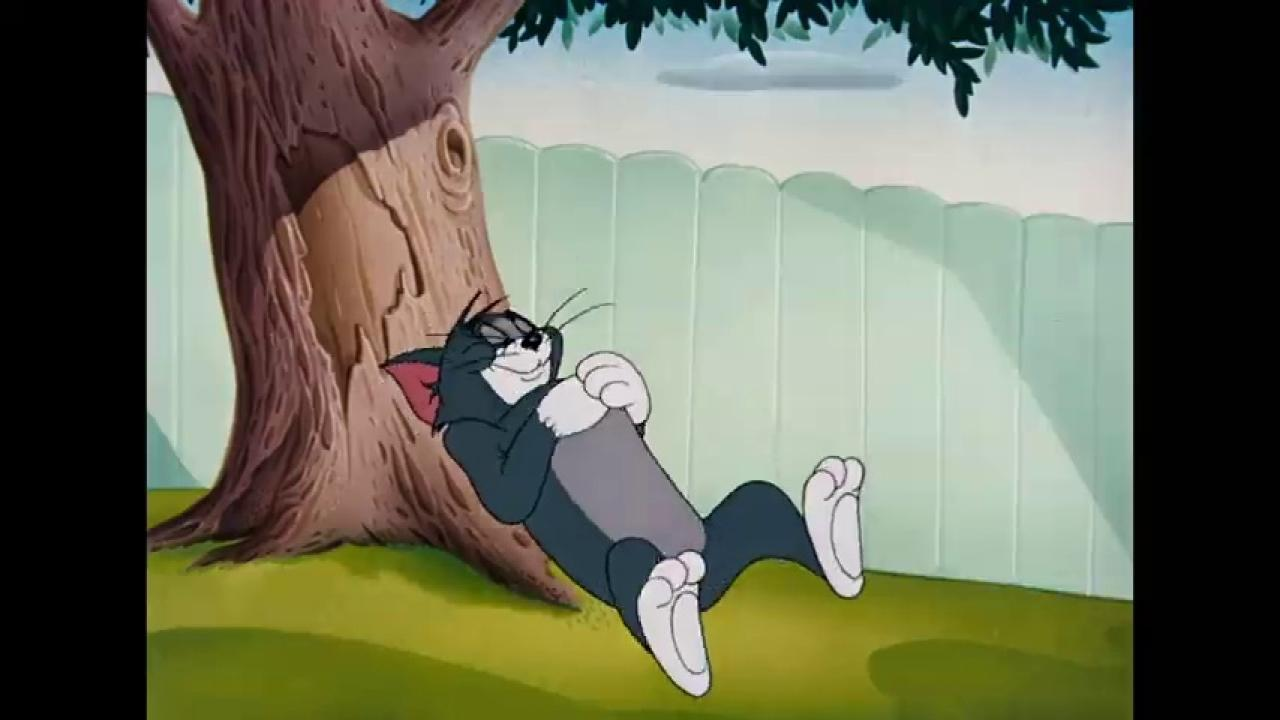Tom: (376, 293, 868, 700)
